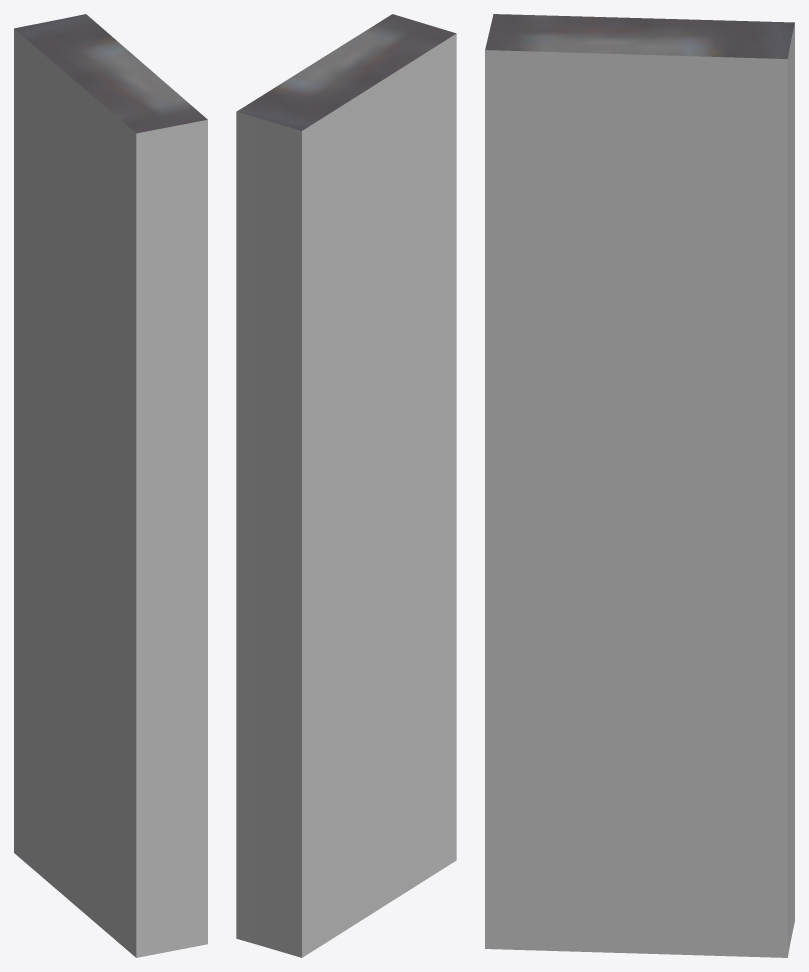
The model's file is DEBW_0010007THWc.gltf.
3 views of the same model, side by side, from view 1: azimuth 30°, elevation 25°; view 2: azimuth 150°, elevation 25°; view 3: azimuth 270°, elevation 25° (orthographic). The views are drawn at different scales.
Visible parts, largest first — view 1: Z_UP; view 2: Z_UP; view 3: Z_UP.
Boxes of the visible parts, x1,y1,x2,y2 form: Z_UP: [14, 14, 207, 957]; Z_UP: [236, 14, 456, 957]; Z_UP: [485, 14, 794, 957].
Size of the model in its own units: 1.65 by 15.34 by 4.79.
Materials: 2 (1 with a texture image).
